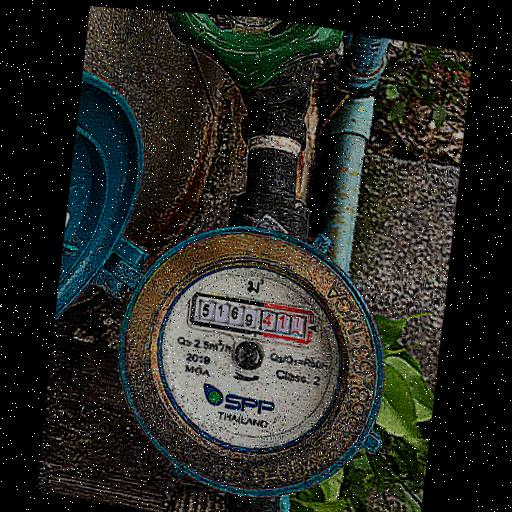1: (275, 314, 290, 335), (214, 304, 228, 324), (291, 317, 305, 337)
4: (260, 311, 275, 332)
5: (199, 301, 213, 322)
6: (229, 305, 243, 326)
9: (243, 308, 257, 329)
border_water_meter_number: (189, 290, 315, 346)
